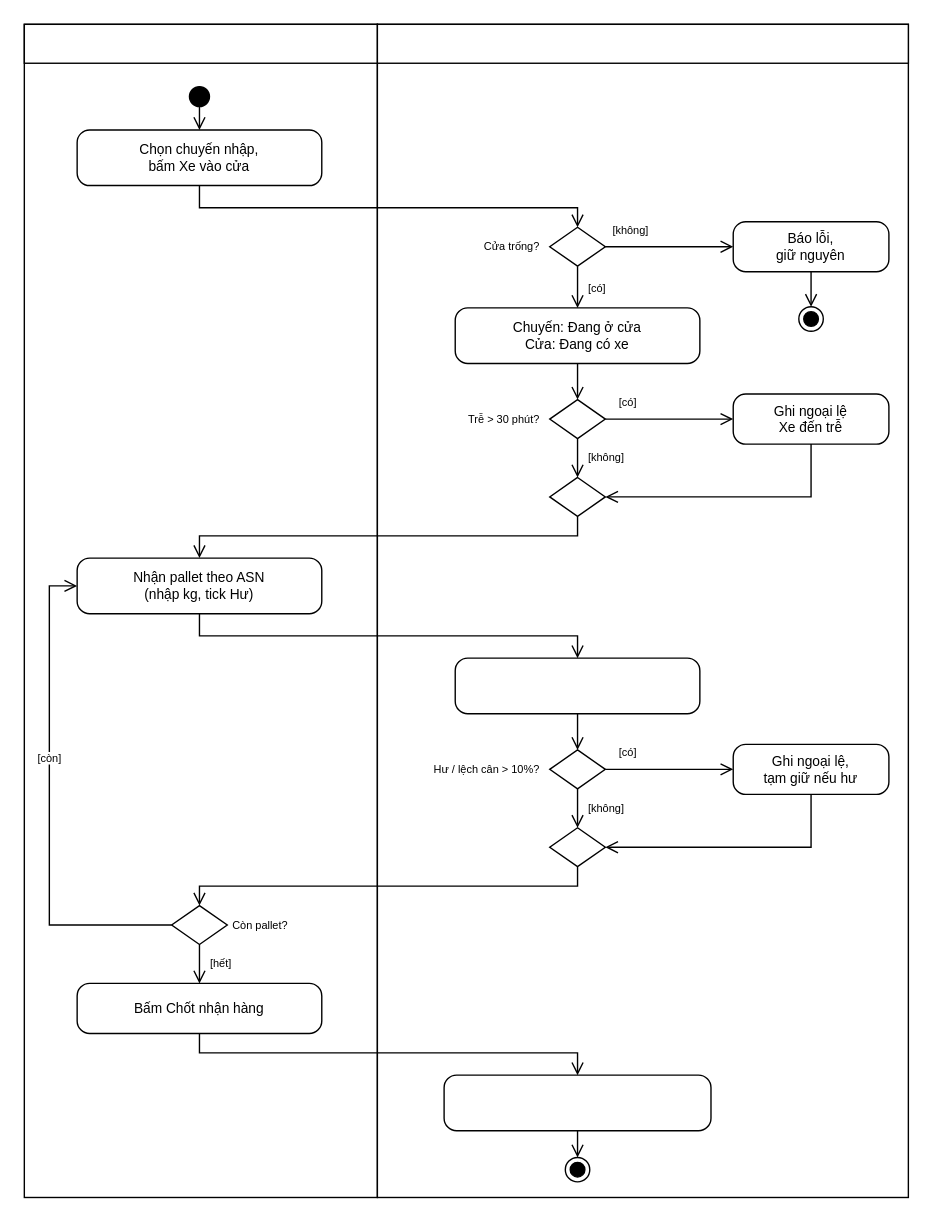
The diagram is 933 pixels wide and 1222 high, and some of its shapes have lost their labels. Here are the shapes that lost their labels. From the top down, the box of each, then its label:
(23, 23, 377, 63): NV Inbound
(376, 23, 908, 63): Hệ thống
(454, 657, 700, 714): Tạo pallet, ghi chuỗi giám sát
(443, 1074, 711, 1131): Dòng chưa nhận → Thiếu; ghi ngoại lệ; đóng ASN
